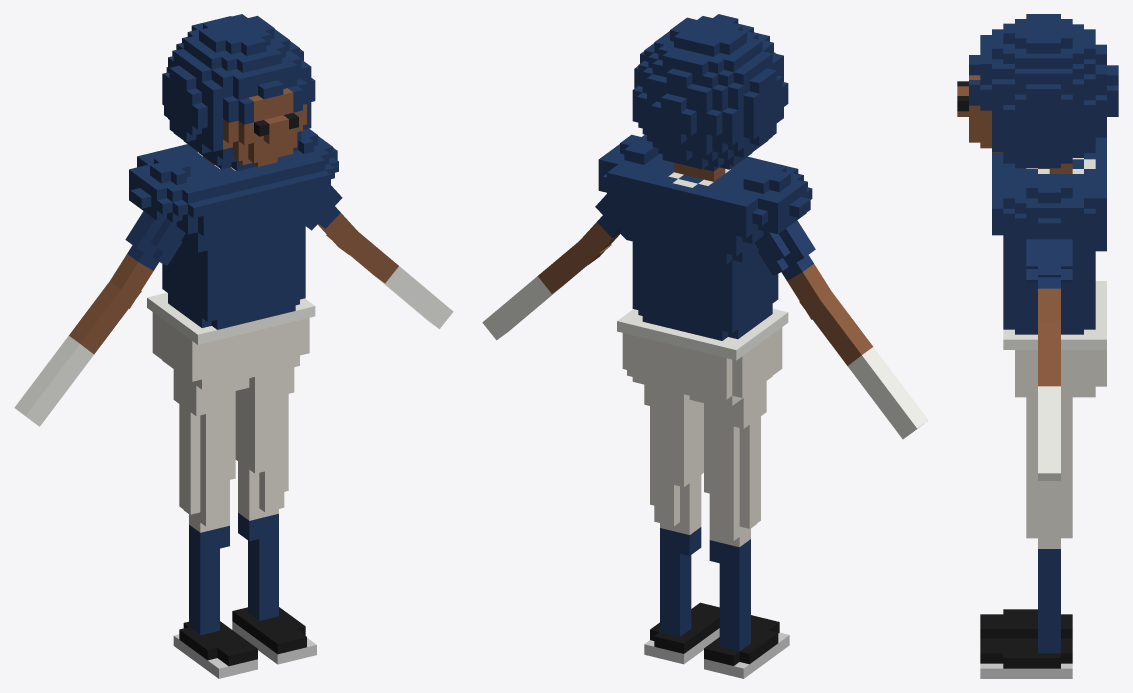
File: voxel.glb
The picture shows the model from 3 angles, left to right: view 1: azimuth 30°, elevation 25°; view 2: azimuth 150°, elevation 25°; view 3: azimuth 270°, elevation 25°; orthographic projection.
Parts seen in each view (by area): view 1: head, thorax, lumbar, pelvis, thighR, shankL, shankR, thighL, forearmR, upperArmR, forearmL, handR (+6 smaller); view 2: head, thorax, pelvis, lumbar, thighR, shankL, thighL, shankR, forearmR, upperArmR, footR, footL (+4 smaller); view 3: head, thorax, pelvis, lumbar, shankL, thighL, upperArmL, footL, forearmL, handL, footR, toesL (+1 smaller).
Part boxes in pixels (left/top/right/bottom): head: left=162, top=14, right=315, bottom=171; thorax: left=129, top=128, right=338, bottom=260; lumbar: left=162, top=236, right=305, bottom=329; pelvis: left=147, top=292, right=315, bottom=389; thighR: left=173, top=352, right=239, bottom=505; shankL: left=238, top=451, right=288, bottom=620; shankR: left=179, top=471, right=229, bottom=635; thighL: left=235, top=340, right=294, bottom=489; forearmR: left=48, top=281, right=141, bottom=381; upperArmR: left=110, top=211, right=185, bottom=308; forearmL: left=326, top=226, right=419, bottom=300; handR: left=14, top=363, right=79, bottom=426; head: left=632, top=14, right=788, bottom=171; thorax: left=598, top=134, right=812, bottom=270; pelvis: left=617, top=308, right=788, bottom=405; lumbar: left=632, top=246, right=778, bottom=340; thighR: left=699, top=380, right=766, bottom=518; shankL: left=650, top=464, right=701, bottom=636; thighL: left=644, top=384, right=703, bottom=505; shankR: left=709, top=489, right=760, bottom=651; forearmR: left=799, top=291, right=893, bottom=387; upperArmR: left=754, top=220, right=831, bottom=319; footR: left=704, top=626, right=778, bottom=678; footL: left=644, top=611, right=718, bottom=664; head: left=957, top=14, right=1118, bottom=168; thorax: left=992, top=137, right=1106, bottom=261; pelvis: left=1003, top=281, right=1106, bottom=397; lumbar: left=1003, top=261, right=1095, bottom=334; shankL: left=1026, top=496, right=1072, bottom=653; thighL: left=1026, top=391, right=1072, bottom=501; upperArmL: left=1026, top=239, right=1072, bottom=320; footL: left=1003, top=638, right=1072, bottom=678; forearmL: left=1038, top=320, right=1060, bottom=418; handL: left=1038, top=419, right=1060, bottom=480; footR: left=1003, top=609, right=1072, bottom=638; toesL: left=980, top=638, right=1003, bottom=678.
Size of the model in its own units: 1.49 by 2.04 by 0.476.
